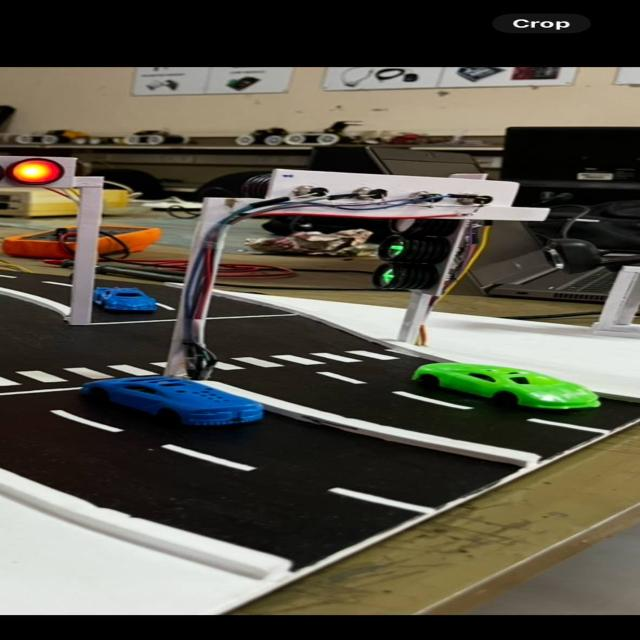car: (388, 356, 627, 432), (74, 368, 268, 432), (91, 283, 172, 320)
